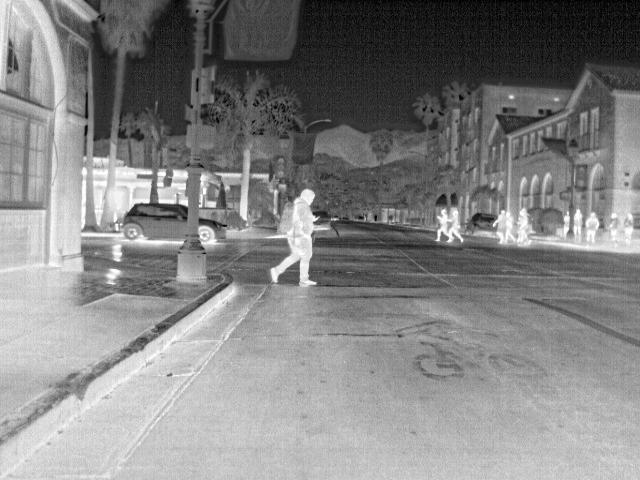car: (125, 203, 188, 241), (196, 220, 227, 245), (468, 214, 500, 238), (311, 208, 334, 233)
person: (269, 189, 321, 287), (446, 206, 466, 248), (493, 208, 509, 244), (516, 213, 533, 246), (434, 209, 450, 243), (584, 211, 600, 244), (503, 211, 518, 245), (607, 212, 622, 246), (573, 207, 587, 241), (561, 210, 575, 241), (624, 213, 637, 246)
